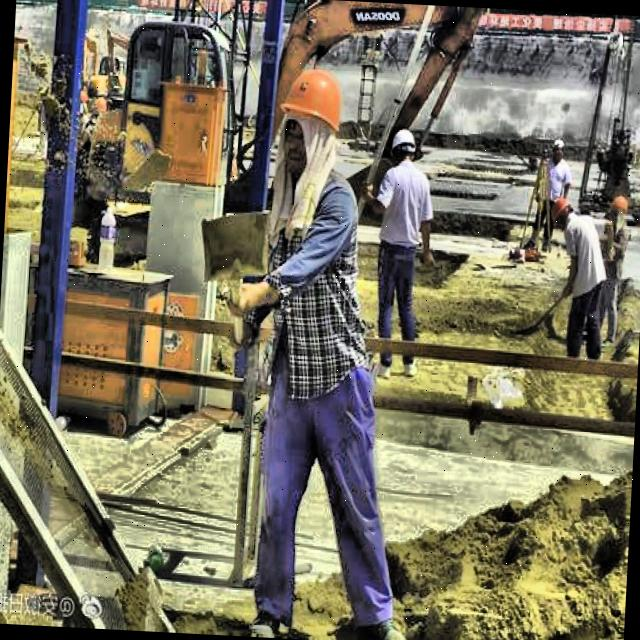helmet: (279, 64, 346, 180), (388, 126, 417, 167), (550, 194, 576, 232), (604, 194, 629, 231), (550, 134, 566, 170)
